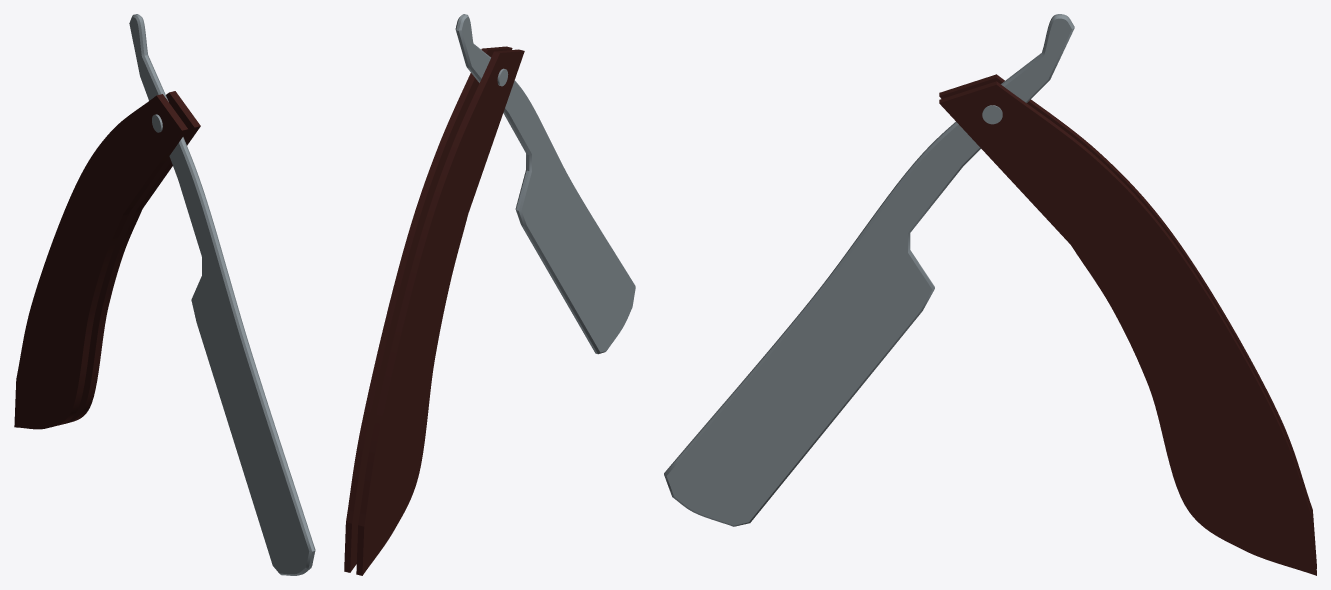
3 views of the same model, side by side, from view 1: azimuth 30°, elevation 25°; view 2: azimuth 150°, elevation 25°; view 3: azimuth 270°, elevation 25° (orthographic). The views are drawn at different scales.
Parts seen in each view (by area): view 1: scale.001, blade, scale; view 2: scale.001, blade, scale; view 3: scale, blade, scale.001.
Boxes of the visible parts, <box> form: scale.001: <box>14,94,187,429</box>; blade: <box>129,14,315,575</box>; scale: <box>58,91,200,425</box>; scale.001: <box>356,49,524,575</box>; blade: <box>455,14,635,354</box>; scale: <box>344,46,512,572</box>; scale: <box>939,81,1316,575</box>; blade: <box>664,14,1074,526</box>; scale.001: <box>939,74,1316,568</box>.
Bounding box in the file's own units: 0.00695 × 0.1494 × 0.159.
